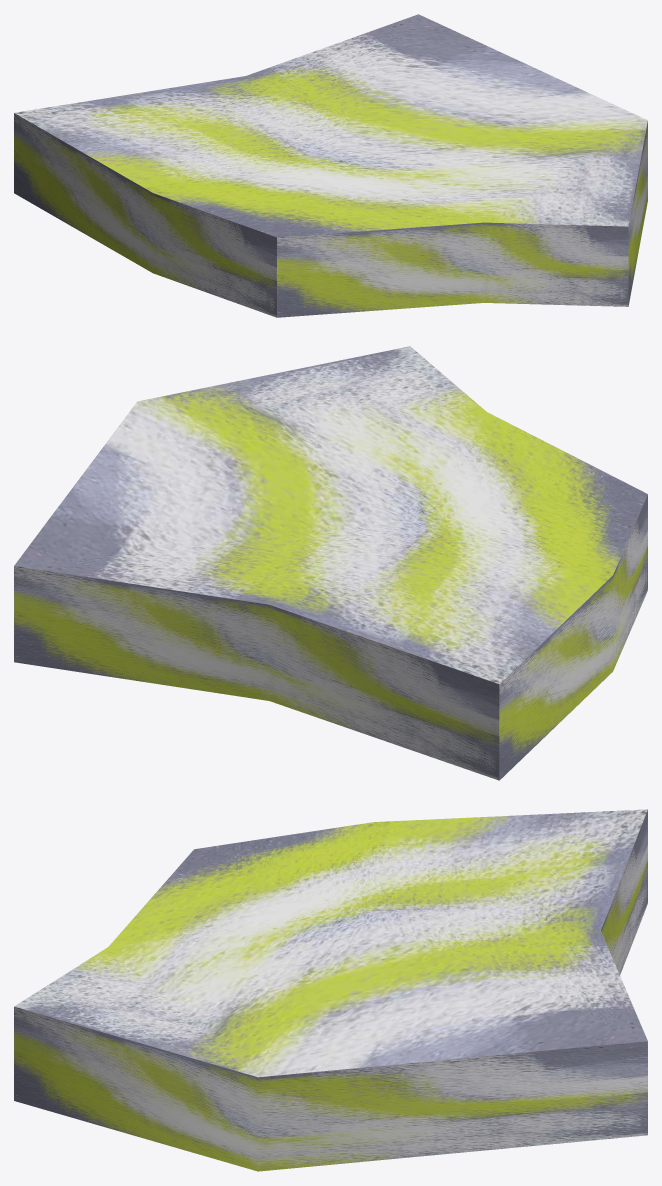
File: Collectible4.FBX
3 views of the same model, one above another, from view 1: azimuth 30°, elevation 25°; view 2: azimuth 150°, elevation 25°; view 3: azimuth 270°, elevation 25° (orthographic). The views are drawn at different scales.
Visible parts, largest first — view 1: Box003; view 2: Box003; view 3: Box003.
Boxes of the visible parts, x1,y1,x2,y2 form: Box003: (14,14,647,317); Box003: (14,346,647,780); Box003: (14,809,647,1171).
Size of the model in its own units: 4.63 by 4.63 by 0.7588.
Materials: 1 (1 with a texture image).
